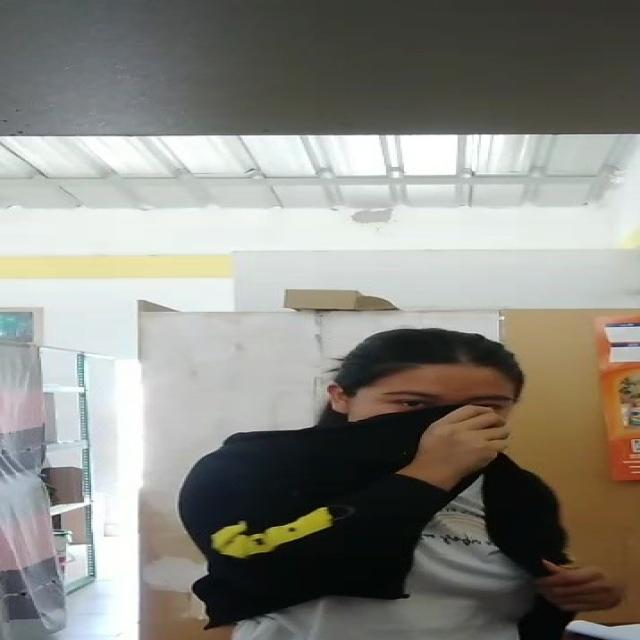8_ropa_rostro: (283, 401, 509, 506)
